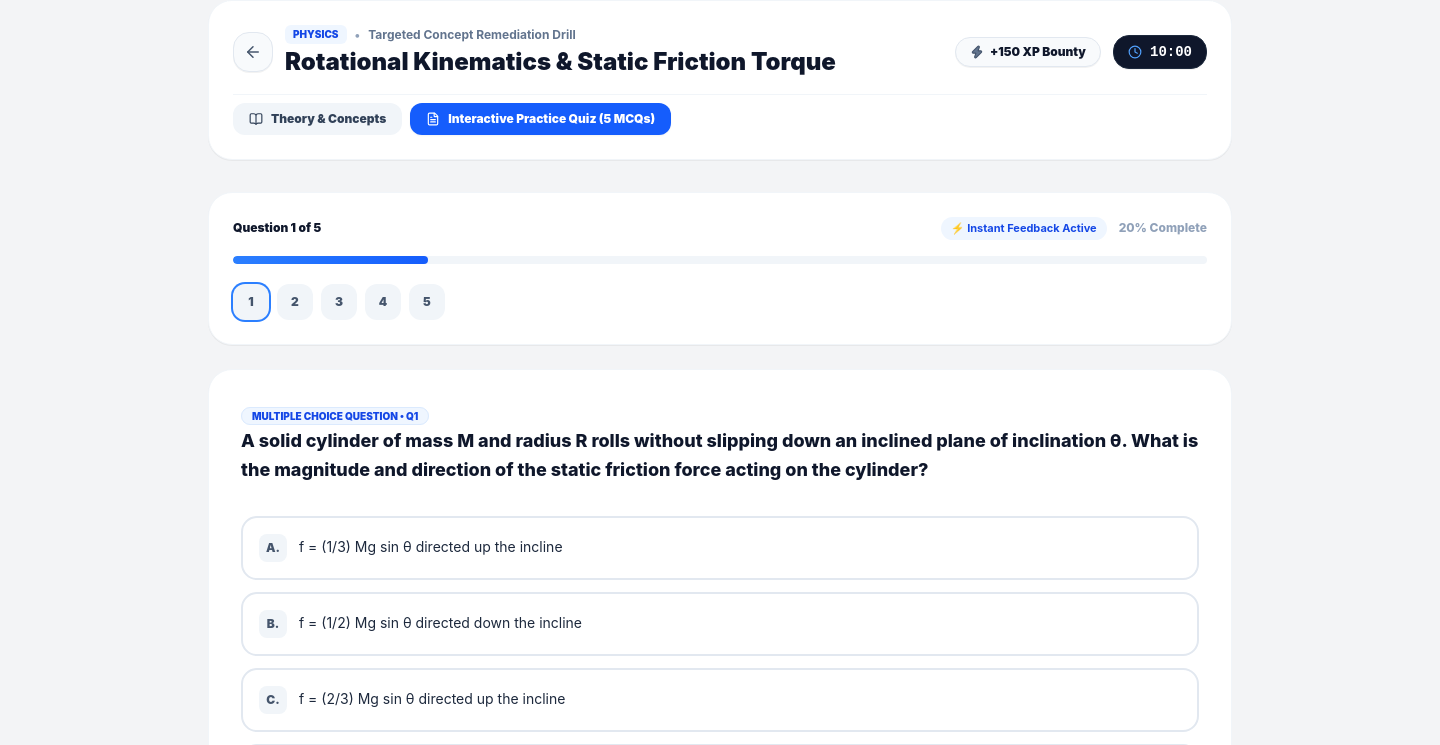
Test case: Adversarial Test Suite: Student Portal & Gamification Engine › Interactive PracticeSession Quiz Verification › interactively answers questions, checks derivation, and submits for XP
Expected: the heading "Rotational Kinematics & Static Friction Torque" is shown, x1=285 y1=46 x2=836 y2=78
Expected: the text "Question 1 of 5" is shown, x1=233 y1=220 x2=321 y2=236
Click the button "A. f = (1/3) Mg sin θ directed up the incline": (431, 547) x1=241 y1=516 x2=1199 y2=580
(page scrolled)
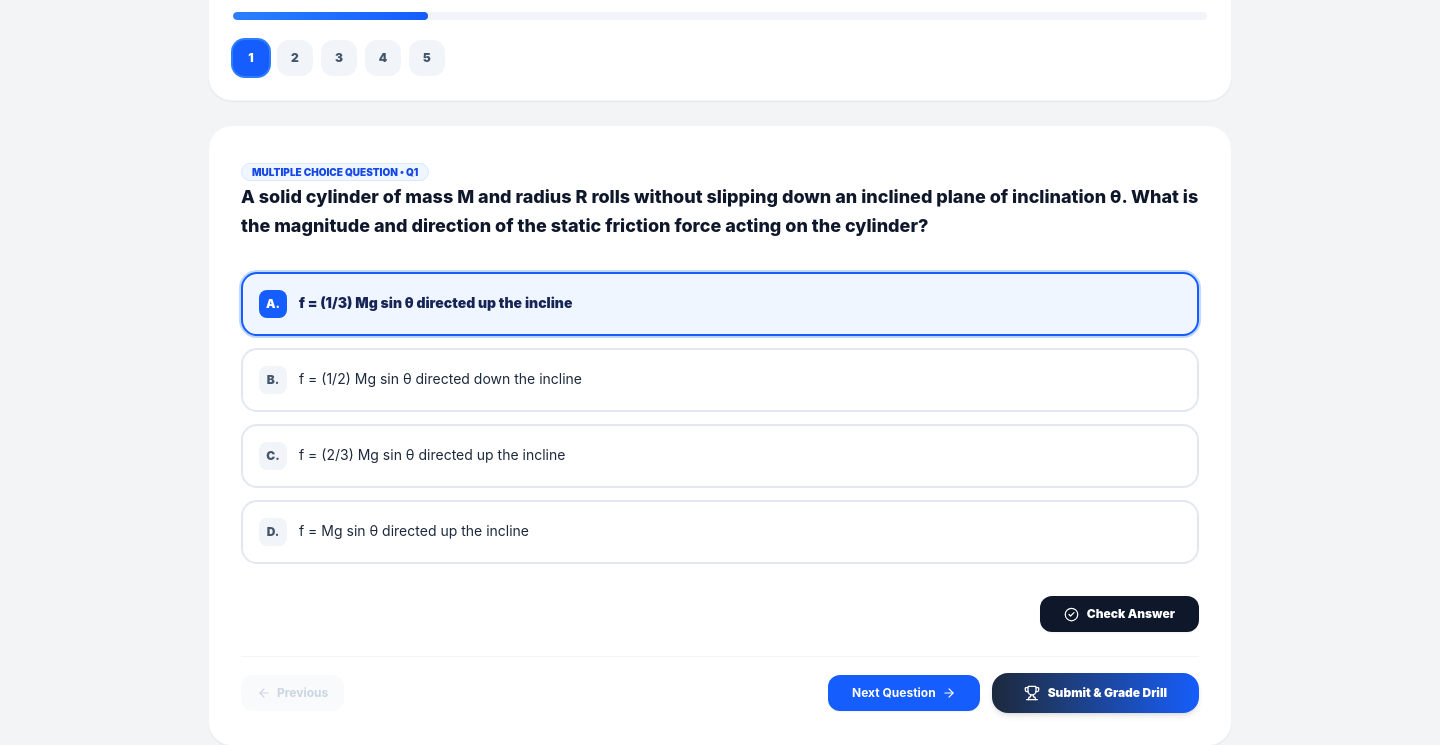
Click Check Answer
Click the button "Check Answer": (1119, 614) x1=1040 y1=596 x2=1199 y2=632
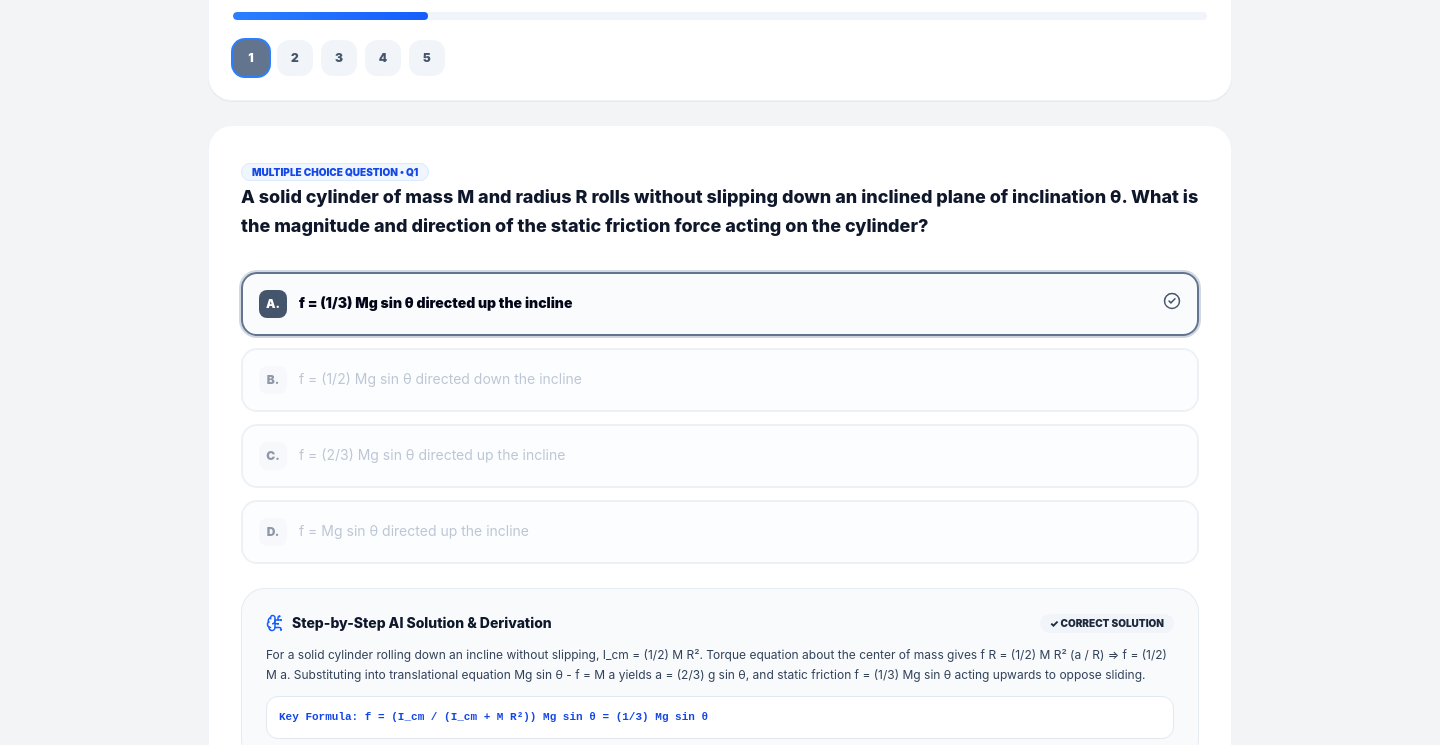
Expected: the heading "Step-by-Step AI Solution & Derivation" is shown, x1=292 y1=613 x2=552 y2=633
